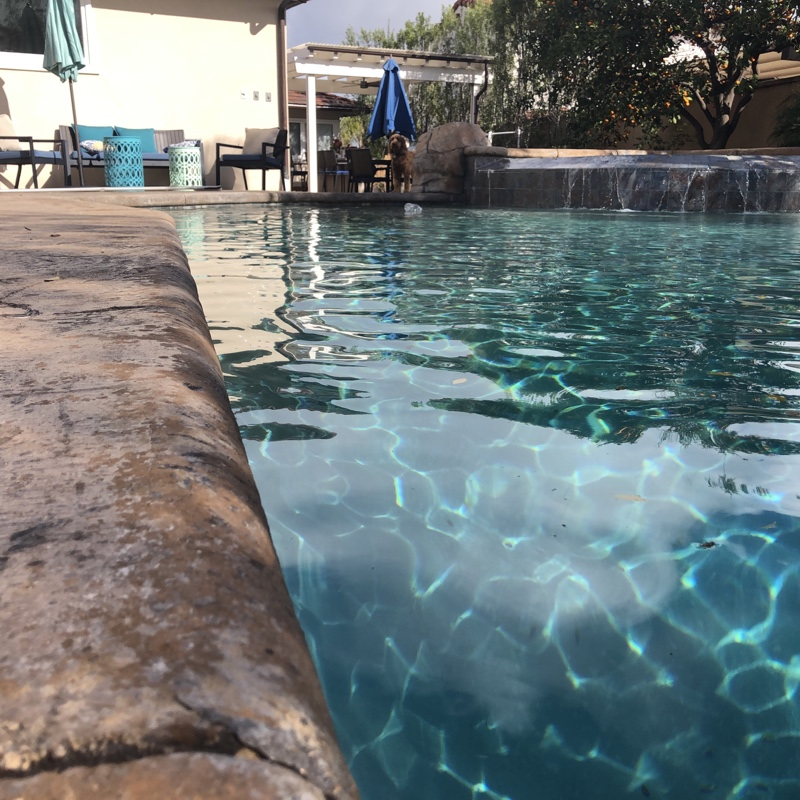Plastic Bottle: (401, 199, 422, 218)
